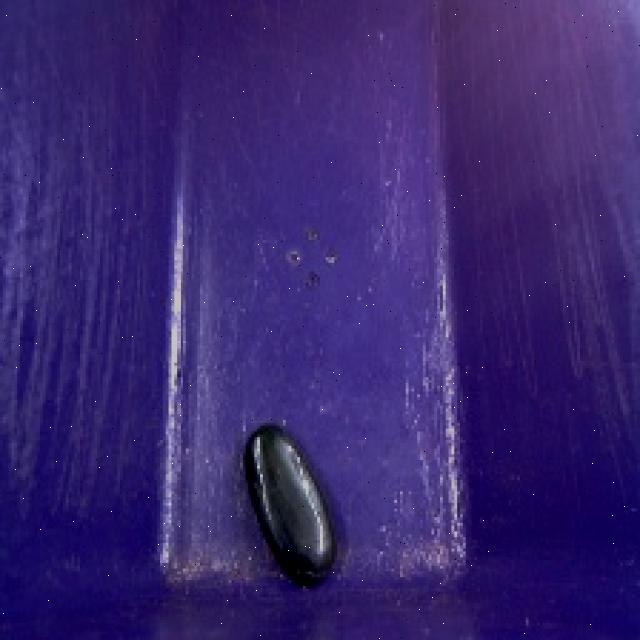cobbles: (235, 412, 344, 596)
